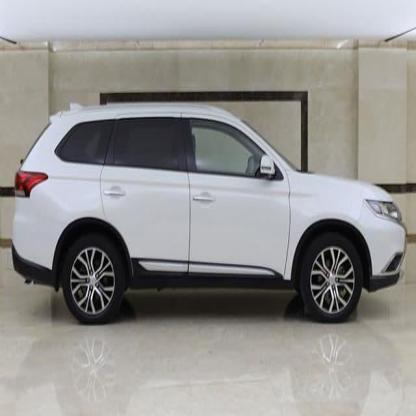Car: (0, 99, 407, 328)
